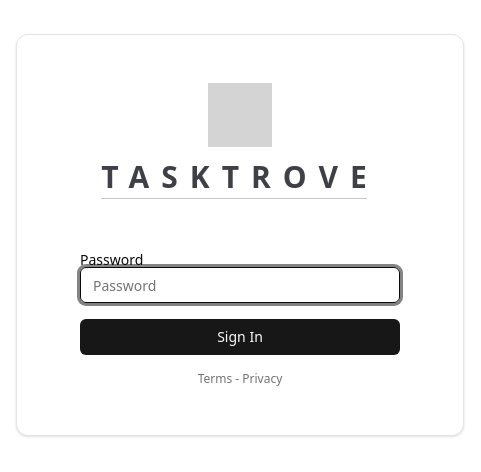
Test: LoginForm › Form Validation › clears error when valid password is provided
First trigger error
Click the button "Sign In" at (240, 337), box left=80, top=319, right=400, bottom=355
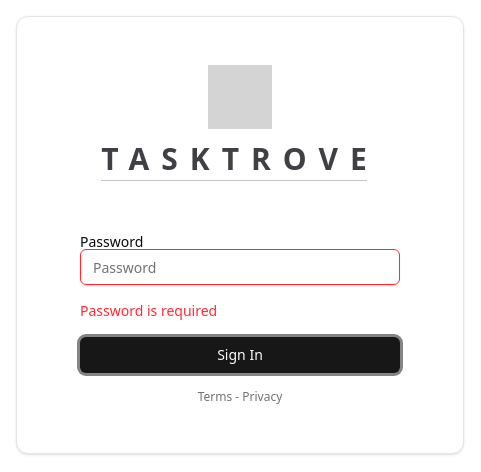
expect the text "Password is required" is shown: met, box left=80, top=301, right=217, bottom=320
Then provide valid input
Type "password123" into the password field with placeholder "Password" at (240, 267), box left=80, top=249, right=400, bottom=285
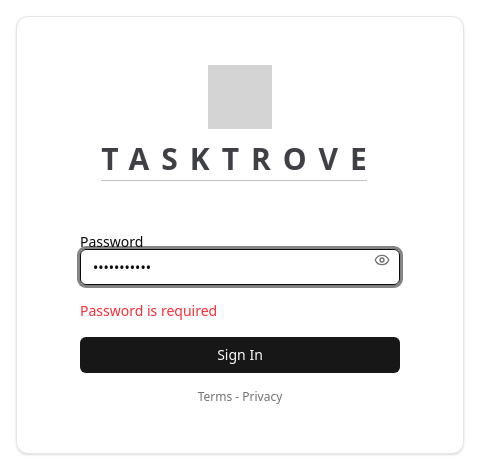
Click the button "Sign In" at (240, 355), box left=80, top=337, right=400, bottom=373
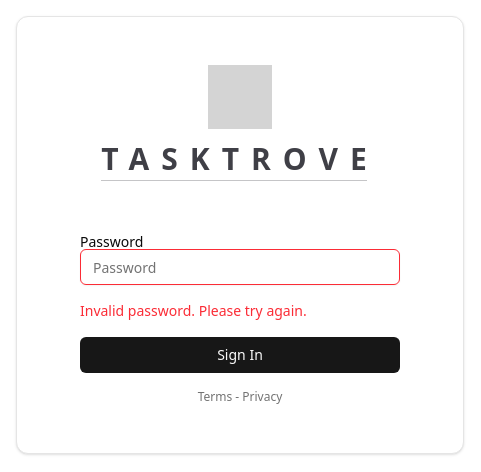
expect the text "Password is required" is gone: met
